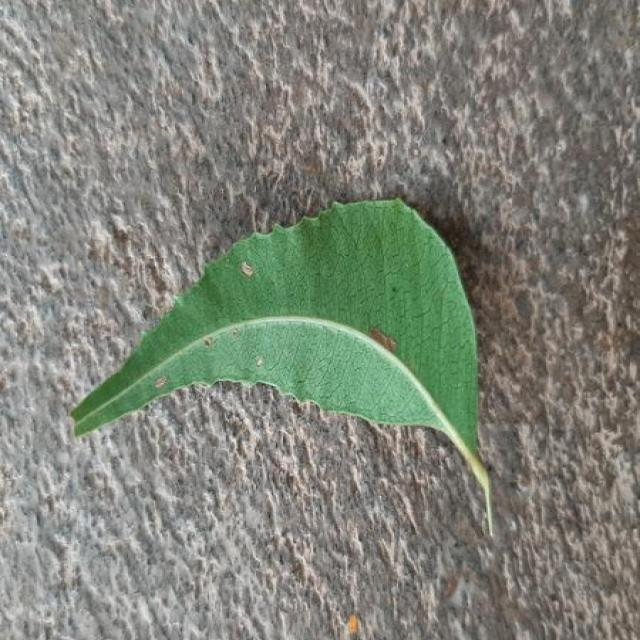neem: (72, 200, 477, 459)
